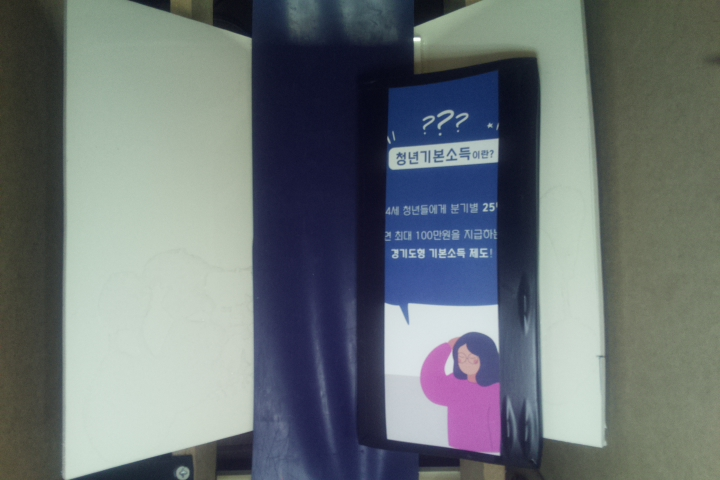book: (362, 60, 544, 471)
